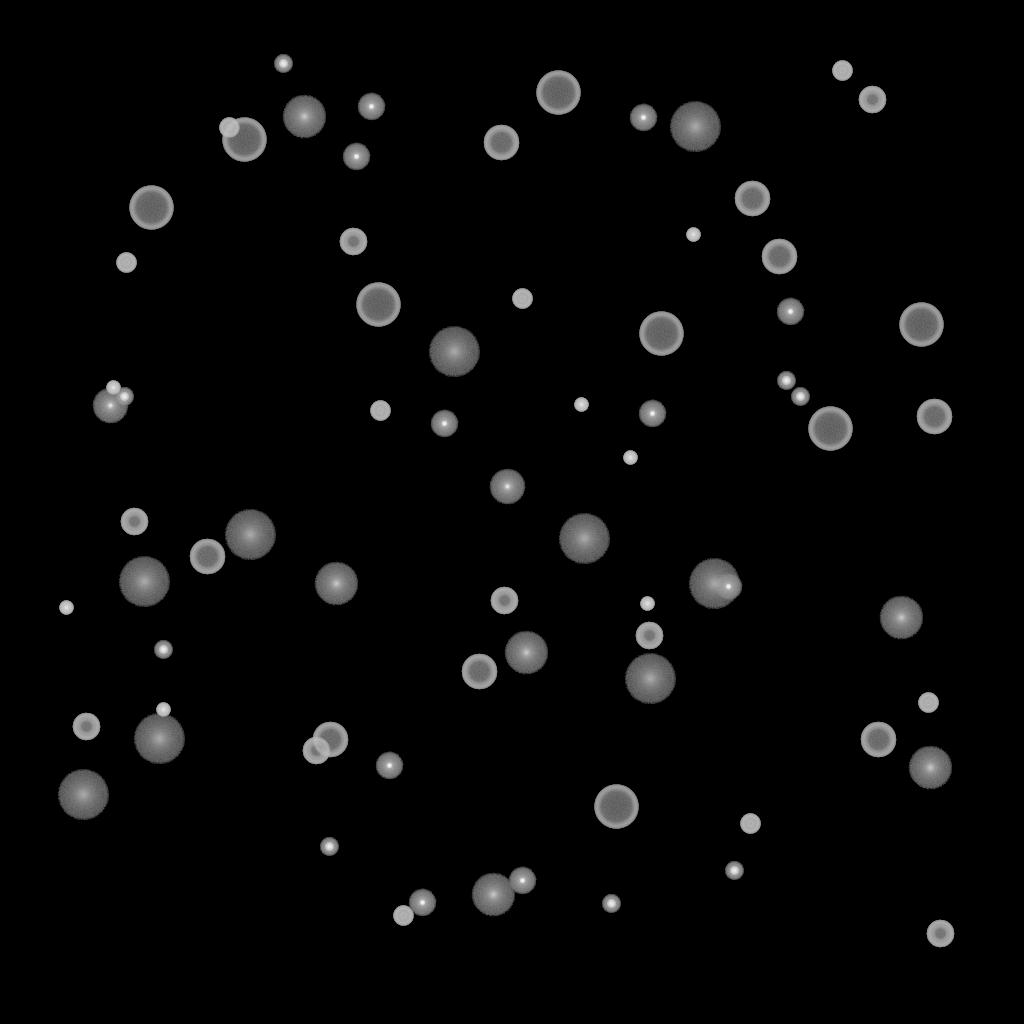depth:-10: (638, 400, 666, 428), (408, 889, 436, 917), (629, 104, 657, 132), (342, 143, 370, 171), (508, 867, 536, 895), (357, 93, 385, 121), (375, 752, 403, 780), (714, 573, 742, 601), (776, 298, 804, 326), (430, 410, 458, 438)
depth:-20: (602, 895, 620, 913), (777, 372, 795, 390), (320, 838, 338, 856), (115, 388, 133, 406), (154, 641, 172, 659), (725, 862, 743, 880), (791, 388, 809, 406), (274, 55, 292, 73)
depth:-30: (623, 451, 637, 465), (59, 601, 73, 615), (156, 703, 170, 717), (686, 228, 700, 242), (574, 398, 588, 412), (106, 381, 120, 395), (640, 597, 654, 611)
depth:-40: (832, 61, 852, 81), (393, 906, 413, 926), (370, 401, 390, 421), (918, 693, 938, 713), (512, 289, 532, 309), (219, 118, 239, 138), (116, 253, 136, 273), (740, 814, 760, 834)
depth:-50: (490, 587, 518, 615), (339, 228, 367, 256), (72, 713, 100, 741), (302, 737, 330, 765), (635, 622, 663, 650), (858, 86, 886, 114), (120, 508, 148, 536), (926, 920, 954, 948)
depth:-60: (734, 181, 770, 217), (761, 239, 797, 275), (860, 722, 896, 758), (916, 399, 952, 435), (189, 539, 225, 575), (483, 125, 519, 161), (461, 654, 497, 690), (312, 722, 348, 758)
depth:-70: (639, 312, 683, 356), (594, 785, 638, 829), (356, 283, 400, 327), (536, 71, 580, 115), (222, 118, 266, 162), (808, 407, 852, 451), (129, 186, 173, 230), (899, 303, 943, 347)
depth:0: (489, 469, 525, 505), (92, 388, 128, 424)
depth:10: (282, 95, 326, 139), (314, 562, 358, 606), (504, 631, 548, 675), (879, 596, 923, 640), (908, 746, 952, 790), (471, 873, 515, 917)
depth:20: (624, 654, 676, 704), (669, 102, 721, 152), (428, 327, 480, 377), (688, 559, 740, 609), (57, 770, 109, 820), (118, 557, 170, 607), (224, 510, 276, 560), (133, 714, 185, 764), (558, 514, 610, 564)
